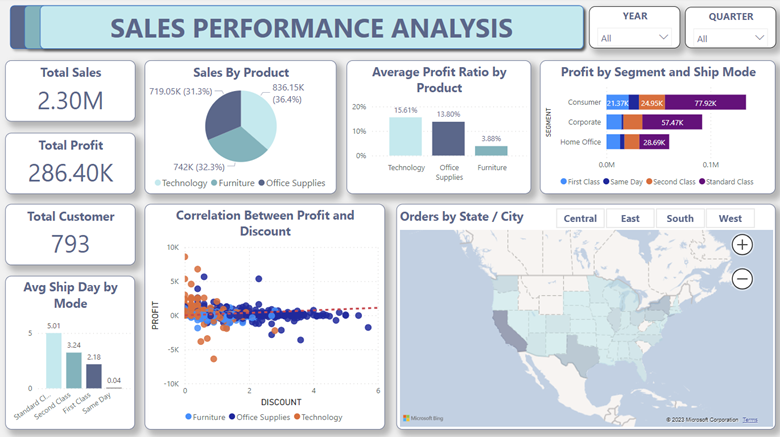

The page's visual inventory and layout, read from the dashboard file:
{"tool":"powerbi","page":{"name":"Main Page","canvas":[1280,720],"ordinal":0},"visuals":[{"type":"shape","box":[9.6,3.1,955.1,89.2],"z":0},{"type":"shape","box":[32.9,3.1,931.7,89.2],"z":1000},{"type":"shape","box":[57.6,3.1,907,89.2],"z":2000},{"type":"textbox","box":[67.8,14.2,887.8,66.7],"z":3000},{"type":"slicer","title":"YEAR","fields":{"Values":["ORDERS.ORDER_DATE.Variation.Date Hierarchy.Year"]},"box":[965,13.8,148.8,68.8],"z":4000},{"type":"pieChart","title":"Sales By Product","fields":{"Y":["Sum(ORDERS.SALES)"],"Category":["PRODUCT.NAME"]},"box":[238.8,102.5,313.8,218.8],"z":5000},{"type":"clusteredColumnChart","title":"Average Profit Ratio by Product","fields":{"Category":["PRODUCT.NAME"],"Y":["Avg(ORDERS.PROFIT_RATIO)"]},"box":[568.8,102.5,301.2,218.8],"z":6000},{"type":"barChart","title":"Profit by Segment and Ship Mode","fields":{"Category":["CUSTOMER.SEGMENT"],"Y":["Sum(ORDERS.PROFIT)"],"Series":["ORDERS.SHIP_MODE"]},"box":[885,102.5,385,218.8],"z":7000},{"type":"scatterChart","title":"Correlation Between Profit and Discount","fields":{"Series":["PRODUCT.NAME"],"Y":["Sum(ORDERS.PROFIT)"],"X":["Sum(ORDERS.DISCOUNT)"],"Size":["Sum(ORDERS.QUANTITY)"],"Category":["CUSTOMER.NAME"]},"box":[238.8,337.5,392.5,368.8],"z":8000},{"type":"clusteredColumnChart","title":"Avg Ship Day by Mode","fields":{"Category":["ORDERS.SHIP_MODE"],"Y":["Avg(ORDERS.DAY_SHIP)"]},"box":[10.5,454.7,211.6,251.2],"z":9000},{"type":"card","title":"Total Sales","fields":{"Values":["Sum(ORDERS.SALES)"]},"box":[10,102.5,212.5,100],"z":10000},{"type":"card","title":"Total Profit","fields":{"Values":["Sum(ORDERS.PROFIT)"]},"box":[10,221.2,212.5,100],"z":11000},{"type":"slicer","title":"QUARTER","fields":{"Values":["ORDERS.ORDER_DATE.Variation.Date Hierarchy.Quarter"]},"box":[1122.5,15,148.8,67.5],"z":12000},{"type":"filledMap","title":"Orders by State / City","fields":{"Category":["CUSTOMER.STATE"]},"box":[650,337.5,620,368.8],"z":13000},{"type":"slicer","fields":{"Values":["CUSTOMER.REGION"]},"box":[885,337.5,375,45],"z":14000},{"type":"card","title":"Total Customer","fields":{"Values":["Count(ORDERS.CUSTOMER_ID)"]},"box":[10,337.5,212.5,100],"z":15000}]}

Visuals, with their boxes in screenshot pixels (x1, y1, x2, y2), scaled from the page's 1280x720 canvas onto the 780x437 screenshot:
shape: region(6, 2, 588, 56)
shape: region(20, 2, 588, 56)
shape: region(35, 2, 588, 56)
textbox: region(41, 9, 582, 49)
"YEAR" slicer: region(588, 8, 679, 50)
"Sales By Product" pieChart: region(146, 62, 337, 195)
"Average Profit Ratio by Product" clusteredColumnChart: region(347, 62, 530, 195)
"Profit by Segment and Ship Mode" barChart: region(539, 62, 774, 195)
"Correlation Between Profit and Discount" scatterChart: region(146, 205, 385, 429)
"Avg Ship Day by Mode" clusteredColumnChart: region(6, 276, 135, 428)
"Total Sales" card: region(6, 62, 136, 123)
"Total Profit" card: region(6, 134, 136, 195)
"QUARTER" slicer: region(684, 9, 775, 50)
"Orders by State / City" filledMap: region(396, 205, 774, 429)
slicer - CUSTOMER.REGION: region(539, 205, 768, 232)
"Total Customer" card: region(6, 205, 136, 266)
